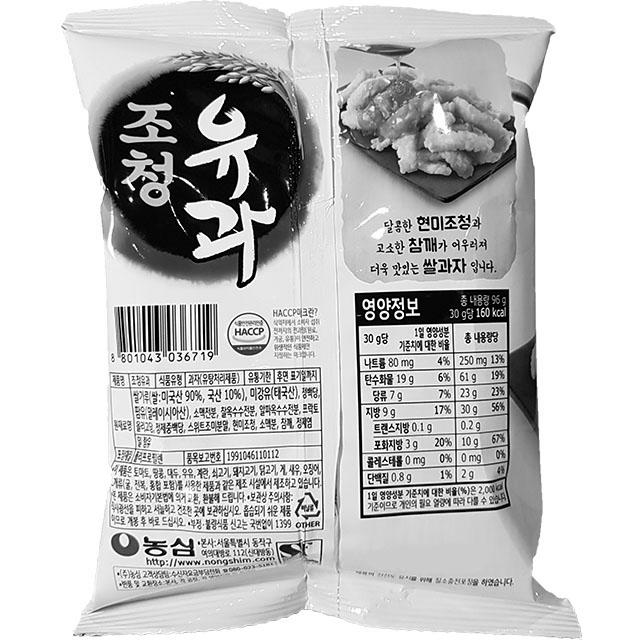Nutrition Label: (344, 278, 528, 526)
